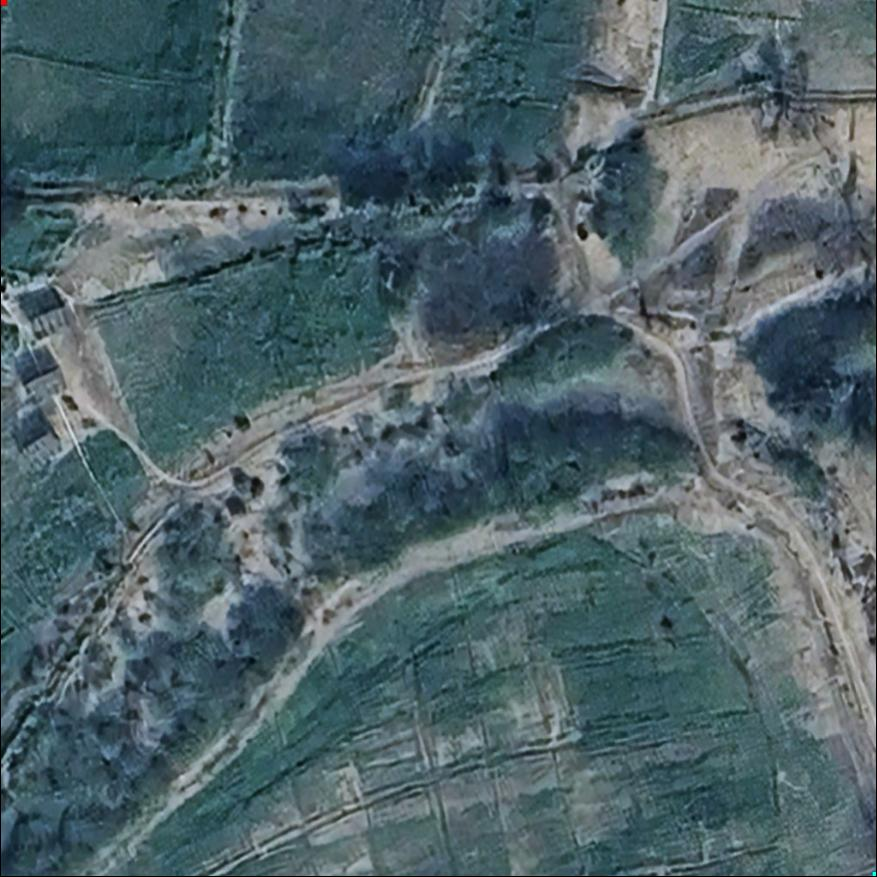Solarpanel: (13, 426, 68, 474), (21, 364, 71, 406), (28, 302, 81, 341)
